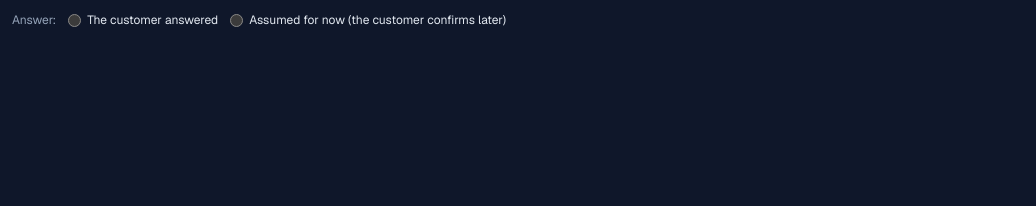
Test: Confirmed without proof: a warning, not a must (2026-10-28) › warns, asks for the answer in words, then saves
This screenshot has width=1036, height=206.
Later steps or results of the test are not shown.
Click the radio button with test id "answer-kind-confirmed-11" at (75, 20), box [68,14,81,26]
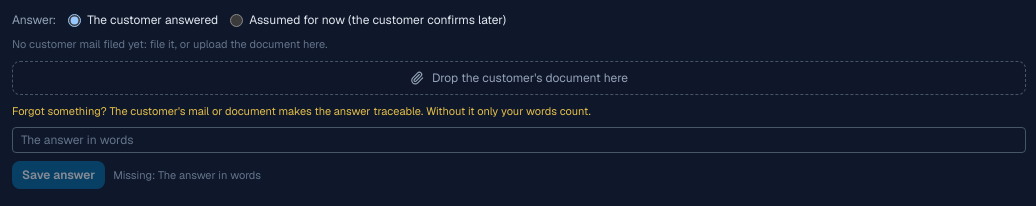
Result: the text with test id "answer-no-proof-11" shows "Forgot something?" at [12,104,591,118]
Result: the button with test id "answer-save-11" is disabled at [12,161,105,189]
Type "Yes, LH and RH" into the field with placeholder "The answer in words" at (519, 140), box [12,127,1026,153]
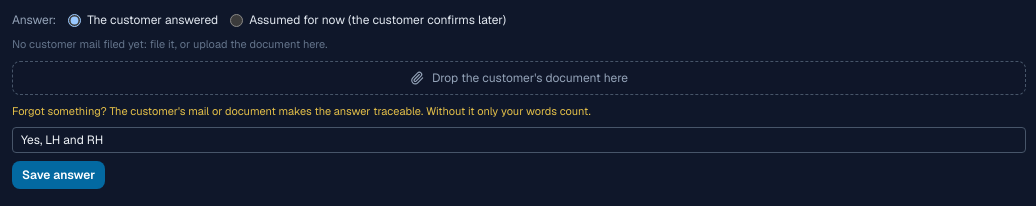
Result: the button with test id "answer-save-11" is enabled at [12,161,105,189]
